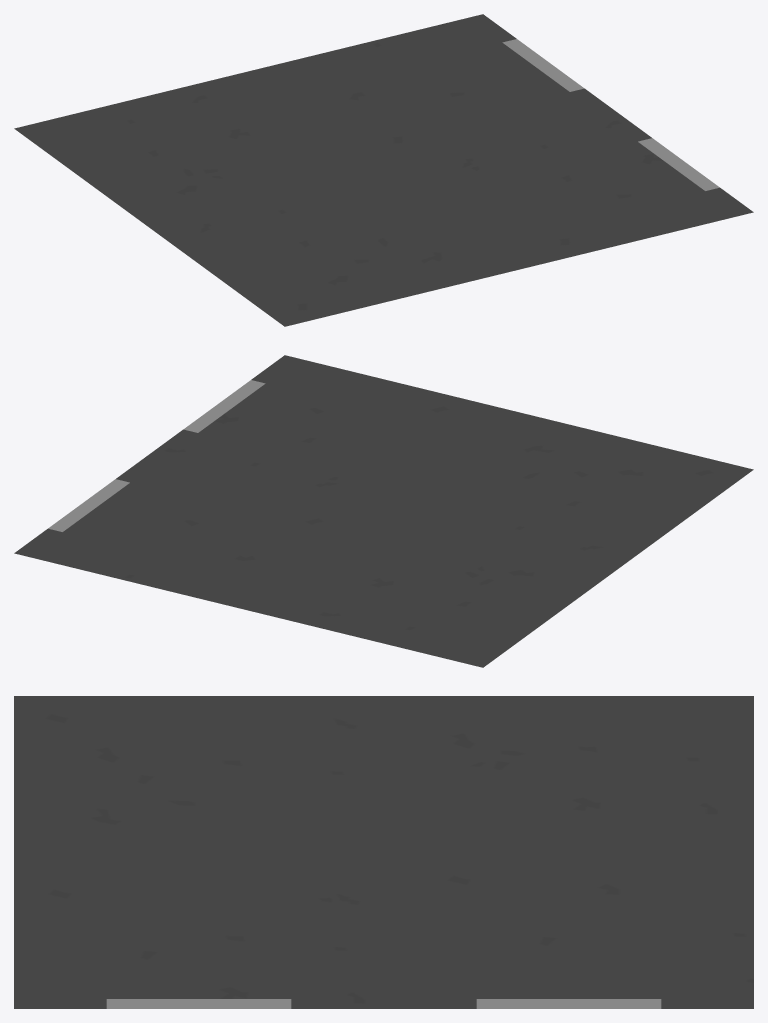
File: SM_Env_Road_02.fbx
3 views of the same model, one above another, from view 1: azimuth 30°, elevation 25°; view 2: azimuth 150°, elevation 25°; view 3: azimuth 270°, elevation 25° (orthographic). The views are drawn at different scales.
Visible parts, largest first — view 1: SM_Env_Road_02; view 2: SM_Env_Road_02; view 3: SM_Env_Road_02.
Part boxes in pixels (x1,y1,x2,y2): SM_Env_Road_02: [14, 14, 753, 326]; SM_Env_Road_02: [14, 355, 753, 667]; SM_Env_Road_02: [14, 696, 753, 1008].
Bounding box in the file's own units: 500 × 0 × 500.
